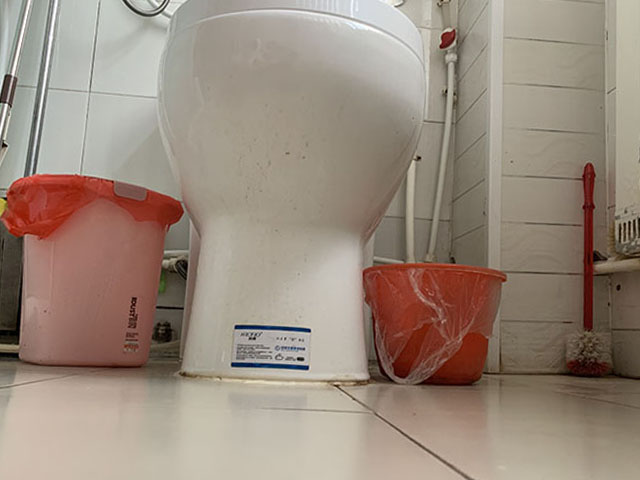closestool: (155, 1, 429, 384)
trashcan: (6, 172, 186, 368), (359, 261, 508, 385)
